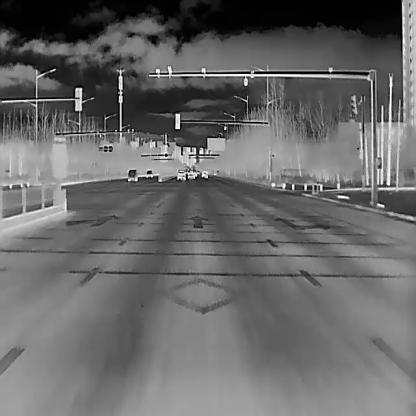car: (126, 168, 137, 180), (176, 169, 185, 180), (186, 169, 194, 178), (200, 169, 208, 176), (146, 169, 152, 177)
